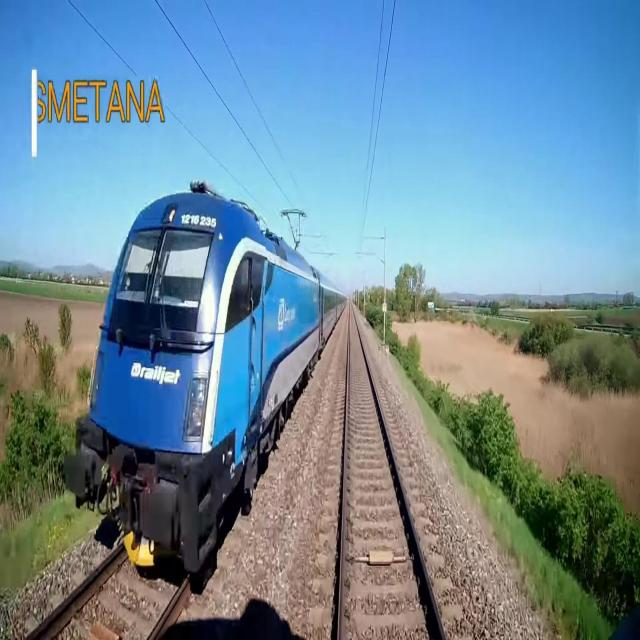rail-track: (342, 307, 441, 639), (36, 543, 175, 639)
